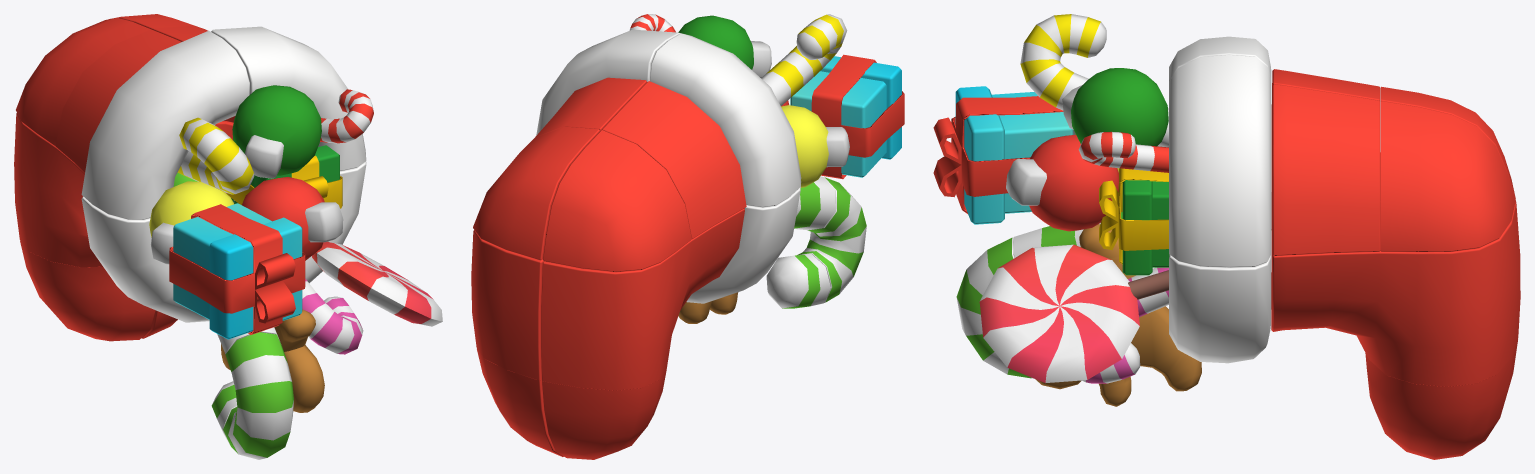
File: Level_191.fbx
The picture shows the model from 3 angles, left to right: view 1: azimuth 30°, elevation 25°; view 2: azimuth 150°, elevation 25°; view 3: azimuth 270°, elevation 25°; orthographic projection. The views are drawn at different scales.
Parts seen in each view (by area): view 1: Cube_L2 2.007, Cube_L1 5.006, Cube_L2 11.005, Cube_L1 1.009, Cube_L2 1.007, Cube_L2 4.006, Cube_L1 8.006, Cube_L2 3.007, Cube_L2 9.005, Cube_L2 8.006, Cube_L1 12.005, Cube_L1 7.006 (+11 smaller); view 2: Cube_L2 11.005, Cube_L2 9.005, Cube_L2 2.007, Cube_L2 8.006, Cube_L1 5.006, Cube_L2 6.006, Cube_L2 10.005, Cube_L2 4.006, Cube_L2 1.007, Cube_L2 3.007, Cube_L1 1.009, Cube_L1 6.006 (+8 smaller); view 3: Cube_L2 6.006, Cube_L2 1.007, Cube_L1 12.005, Cube_L2 7.006, Cube_L2 10.005, Cube_L1 5.006, Cube_L2.008, Cube_L2 5.006, Cube_L1 7.006, Cube_L1 11.006, Cube_L1 8.006, Cube_L1 6.006 (+8 smaller).
Part boxes in pixels (box(x1,y1,x2,y2)): Cube_L2 2.007: box(81, 30, 249, 219); Cube_L1 5.006: box(169, 203, 305, 339); Cube_L2 11.005: box(14, 113, 102, 267); Cube_L1 1.009: box(223, 332, 293, 459); Cube_L2 1.007: box(211, 26, 366, 171); Cube_L2 4.006: box(20, 240, 155, 341); Cube_L1 8.006: box(232, 85, 321, 178); Cube_L2 3.007: box(81, 196, 209, 322); Cube_L2 9.005: box(16, 17, 150, 146); Cube_L2 8.006: box(55, 29, 181, 172); Cube_L1 12.005: box(312, 241, 442, 326); Cube_L1 7.006: box(242, 177, 343, 260); Cube_L2 11.005: box(540, 208, 744, 390); Cube_L2 9.005: box(542, 130, 691, 272); Cube_L2 2.007: box(650, 33, 801, 207); Cube_L2 8.006: box(602, 81, 746, 239); Cube_L1 5.006: box(790, 54, 904, 179); Cube_L2 6.006: box(471, 230, 544, 380); Cube_L2 10.005: box(473, 126, 600, 260); Cube_L2 4.006: box(541, 369, 666, 459); Cube_L2 1.007: box(536, 29, 681, 135); Cube_L2 3.007: box(686, 181, 801, 303); Cube_L1 1.009: box(797, 177, 866, 302); Cube_L1 6.006: box(761, 14, 847, 105); Cube_L2 6.006: box(1271, 203, 1520, 386); Cube_L2 1.007: box(1169, 55, 1271, 267); Cube_L1 12.005: box(979, 244, 1168, 382); Cube_L2 7.006: box(1271, 84, 1380, 255); Cube_L2 10.005: box(1380, 101, 1515, 252); Cube_L1 5.006: box(933, 86, 1073, 224); Cube_L2.008: box(1169, 254, 1271, 363); Cube_L2 5.006: box(1365, 339, 1517, 459); Cube_L1 7.006: box(1006, 135, 1118, 231); Cube_L1 11.006: box(1099, 168, 1169, 275); Cube_L1 8.006: box(1062, 68, 1168, 146); Cube_L1 6.006: box(1020, 14, 1168, 147).
Size of the model in its own units: 7.92 by 10.46 by 14.09.
